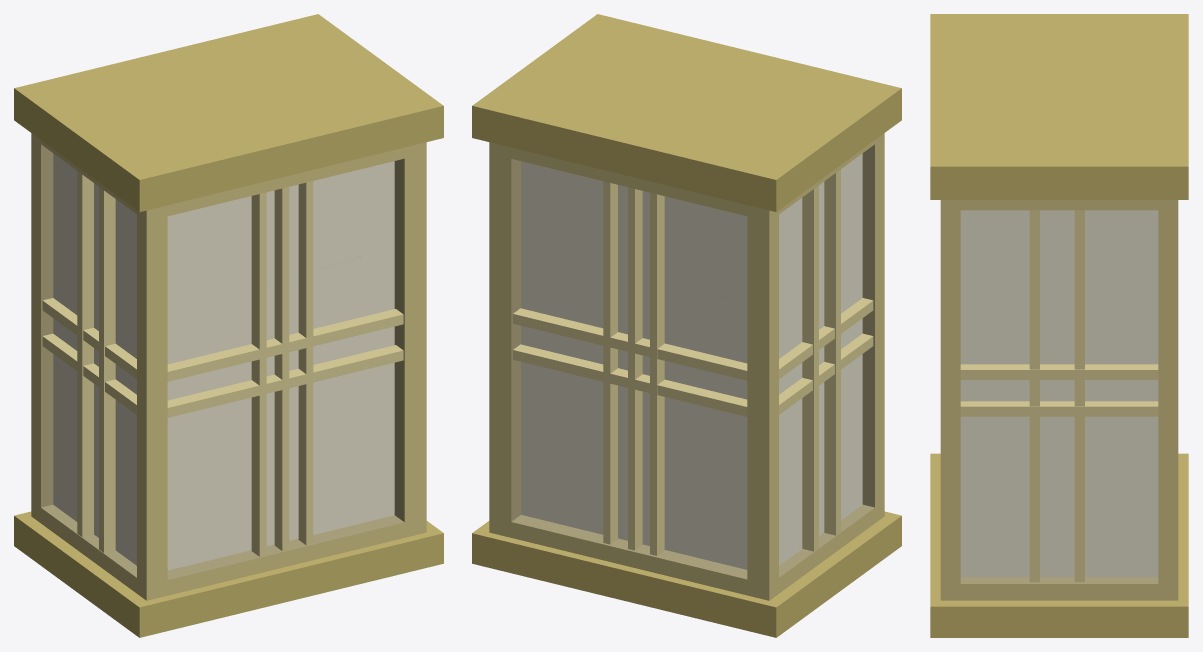
The model's file is Light_S.fbx.
The picture shows the model from 3 angles, left to right: view 1: azimuth 30°, elevation 25°; view 2: azimuth 150°, elevation 25°; view 3: azimuth 270°, elevation 25°; orthographic projection. The views are drawn at different scales.
Visible parts, largest first — view 1: hontai, tatehasira1, tatehasira, yokohasira1 (×2), yokohasira (×2), tate_hasira1, tate_hasira2, tate_hasira; view 2: hontai, tatehasira, tatehasira1, yokohasira1 (×2), yokohasira (×2), tate_hasira1, tate_hasira, tate_hasira2; view 3: hontai, tatehasira1, tatehasira, yokohasira1, yokohasira.
Boxes of the visible parts, bbox=[...] form: hontai: bbox=[14, 14, 443, 637]; tatehasira1: bbox=[77, 171, 93, 537]; tatehasira: bbox=[99, 187, 115, 552]; yokohasira1 (×2): bbox=[42, 333, 403, 417]; yokohasira (×2): bbox=[42, 298, 403, 381]; tate_hasira1: bbox=[298, 181, 313, 545]; tate_hasira2: bbox=[274, 187, 289, 551]; tate_hasira: bbox=[251, 192, 266, 556]; hontai: bbox=[472, 14, 901, 637]; tatehasira: bbox=[824, 169, 840, 535]; tatehasira1: bbox=[802, 185, 818, 551]; yokohasira1 (×2): bbox=[513, 333, 873, 416]; yokohasira (×2): bbox=[513, 298, 873, 380]; tate_hasira1: bbox=[603, 181, 617, 544]; tate_hasira: bbox=[650, 192, 664, 555]; tate_hasira2: bbox=[628, 187, 642, 550]; hontai: bbox=[930, 14, 1188, 637]; tatehasira1: bbox=[1074, 210, 1084, 582]; tatehasira: bbox=[1029, 210, 1039, 582]; yokohasira1: bbox=[960, 401, 1158, 416]; yokohasira: bbox=[960, 364, 1158, 379].
Size of the model in its own units: 22.82 by 32.8 by 16.3.
